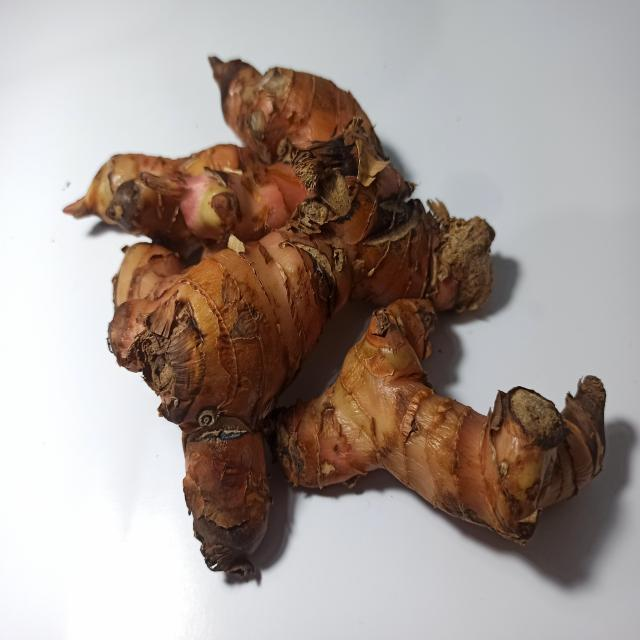ginger: (84, 58, 616, 560)
